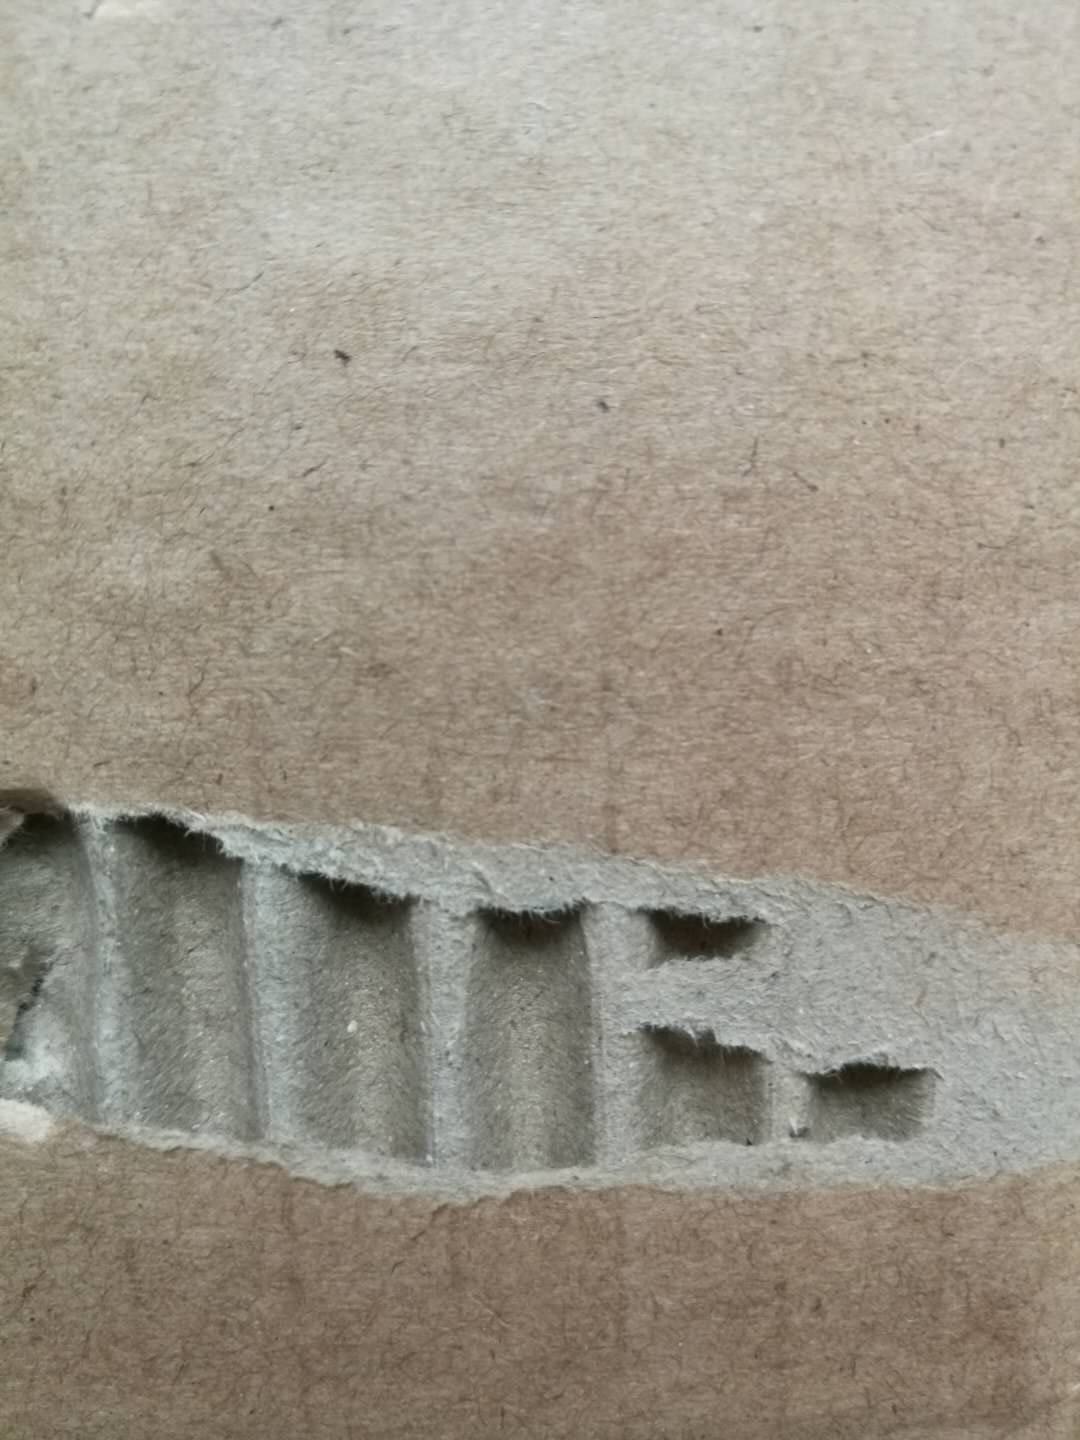defect: (5, 698, 1080, 1315)
